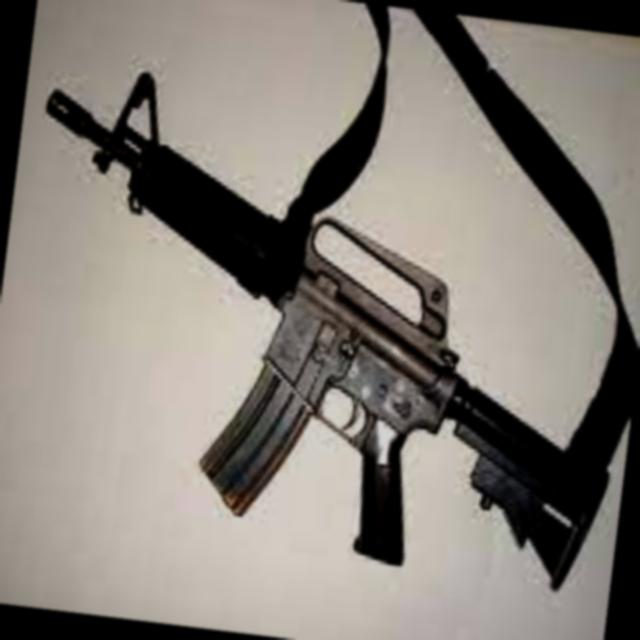m16: (0, 33, 640, 640)
